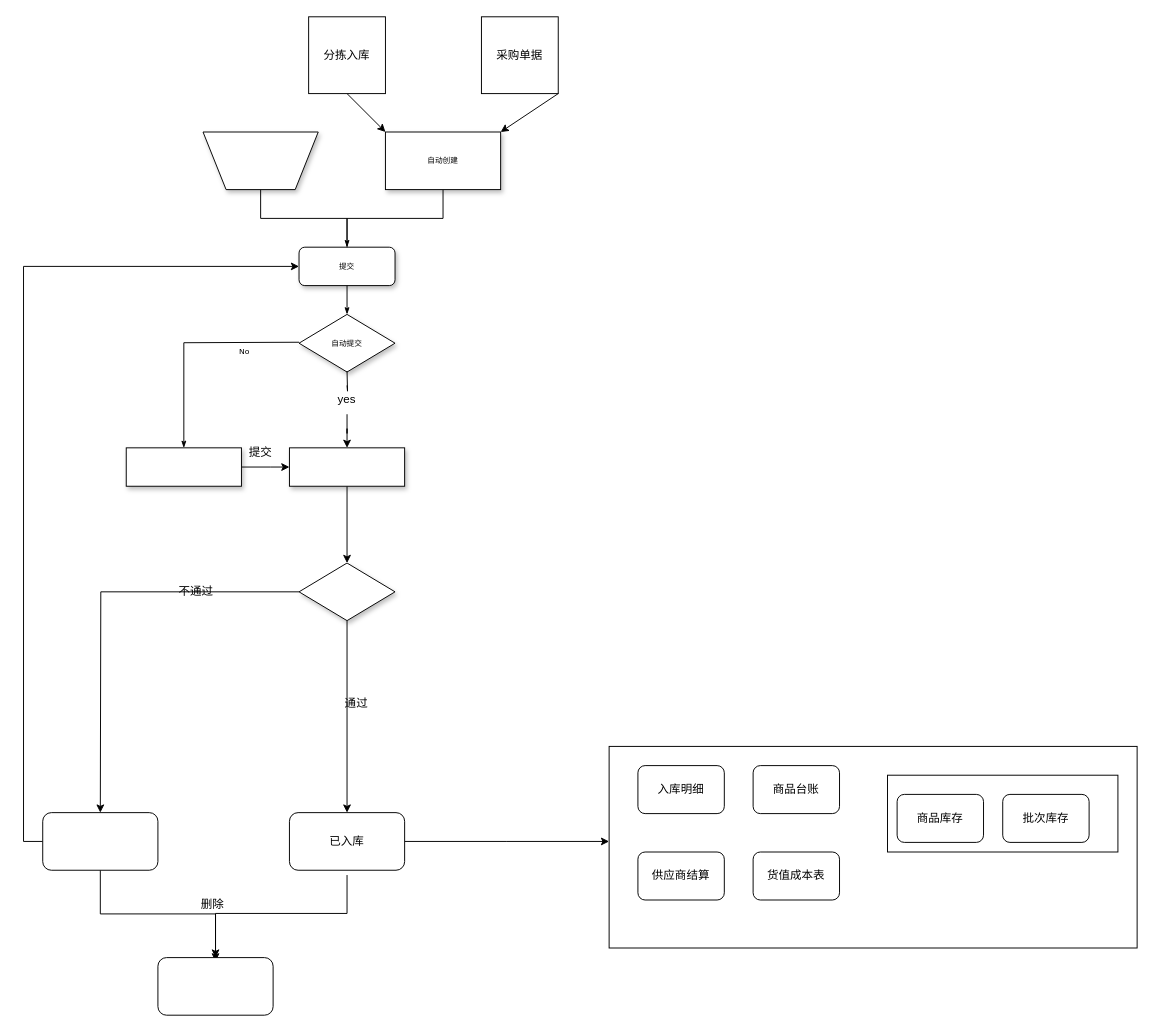
Some shapes in this 1154 by 1032 pixel diagram are drawn without their labels. The shapes that lost their labels are listed below. From the top down, each one's centre as x and y in pixels, then its label:
At (261,161): "手动新建".
At (184,468): "已提交待审核".
At (347,468): "待审核".
At (347,592): "审核".
At (100,841): "被驳回".
At (215,986): "已删除".
